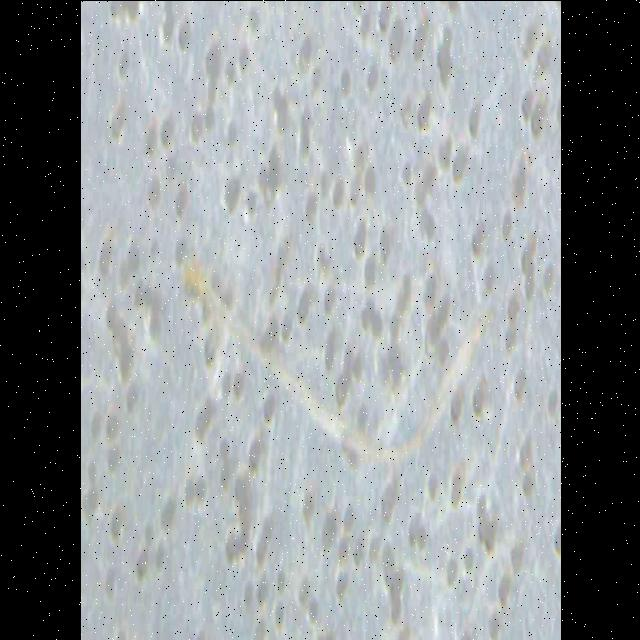Fibre: (181, 238, 493, 472)
